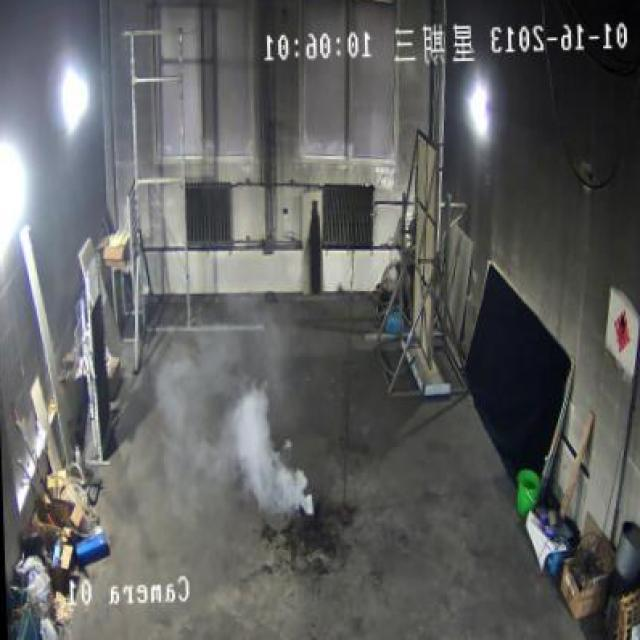fire: (177, 377, 312, 520)
